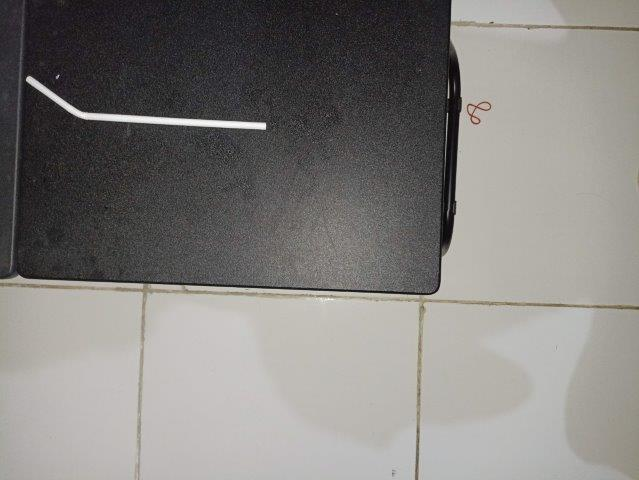karet: (466, 101, 492, 124)
sedotan: (26, 76, 266, 130)
